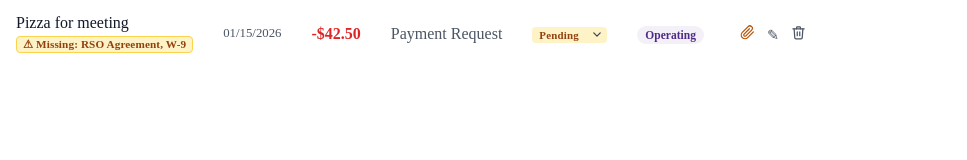
Test: TransactionRow › payment status › shows an error message when the status update is rejected (e.g. missing documents)
Select "Approved" in the dropdown named "Payment status". click: (570, 34)
box: [532,26,607,42]
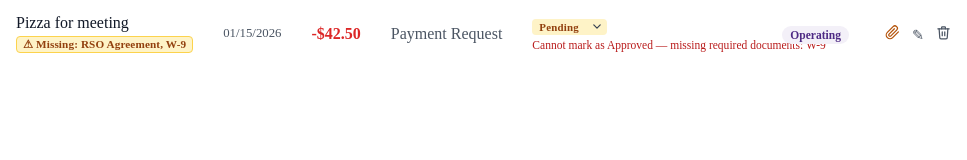
Result: the text "Cannot mark as Approved — missing required documents: W-9" is shown at [532,38,752,50]
